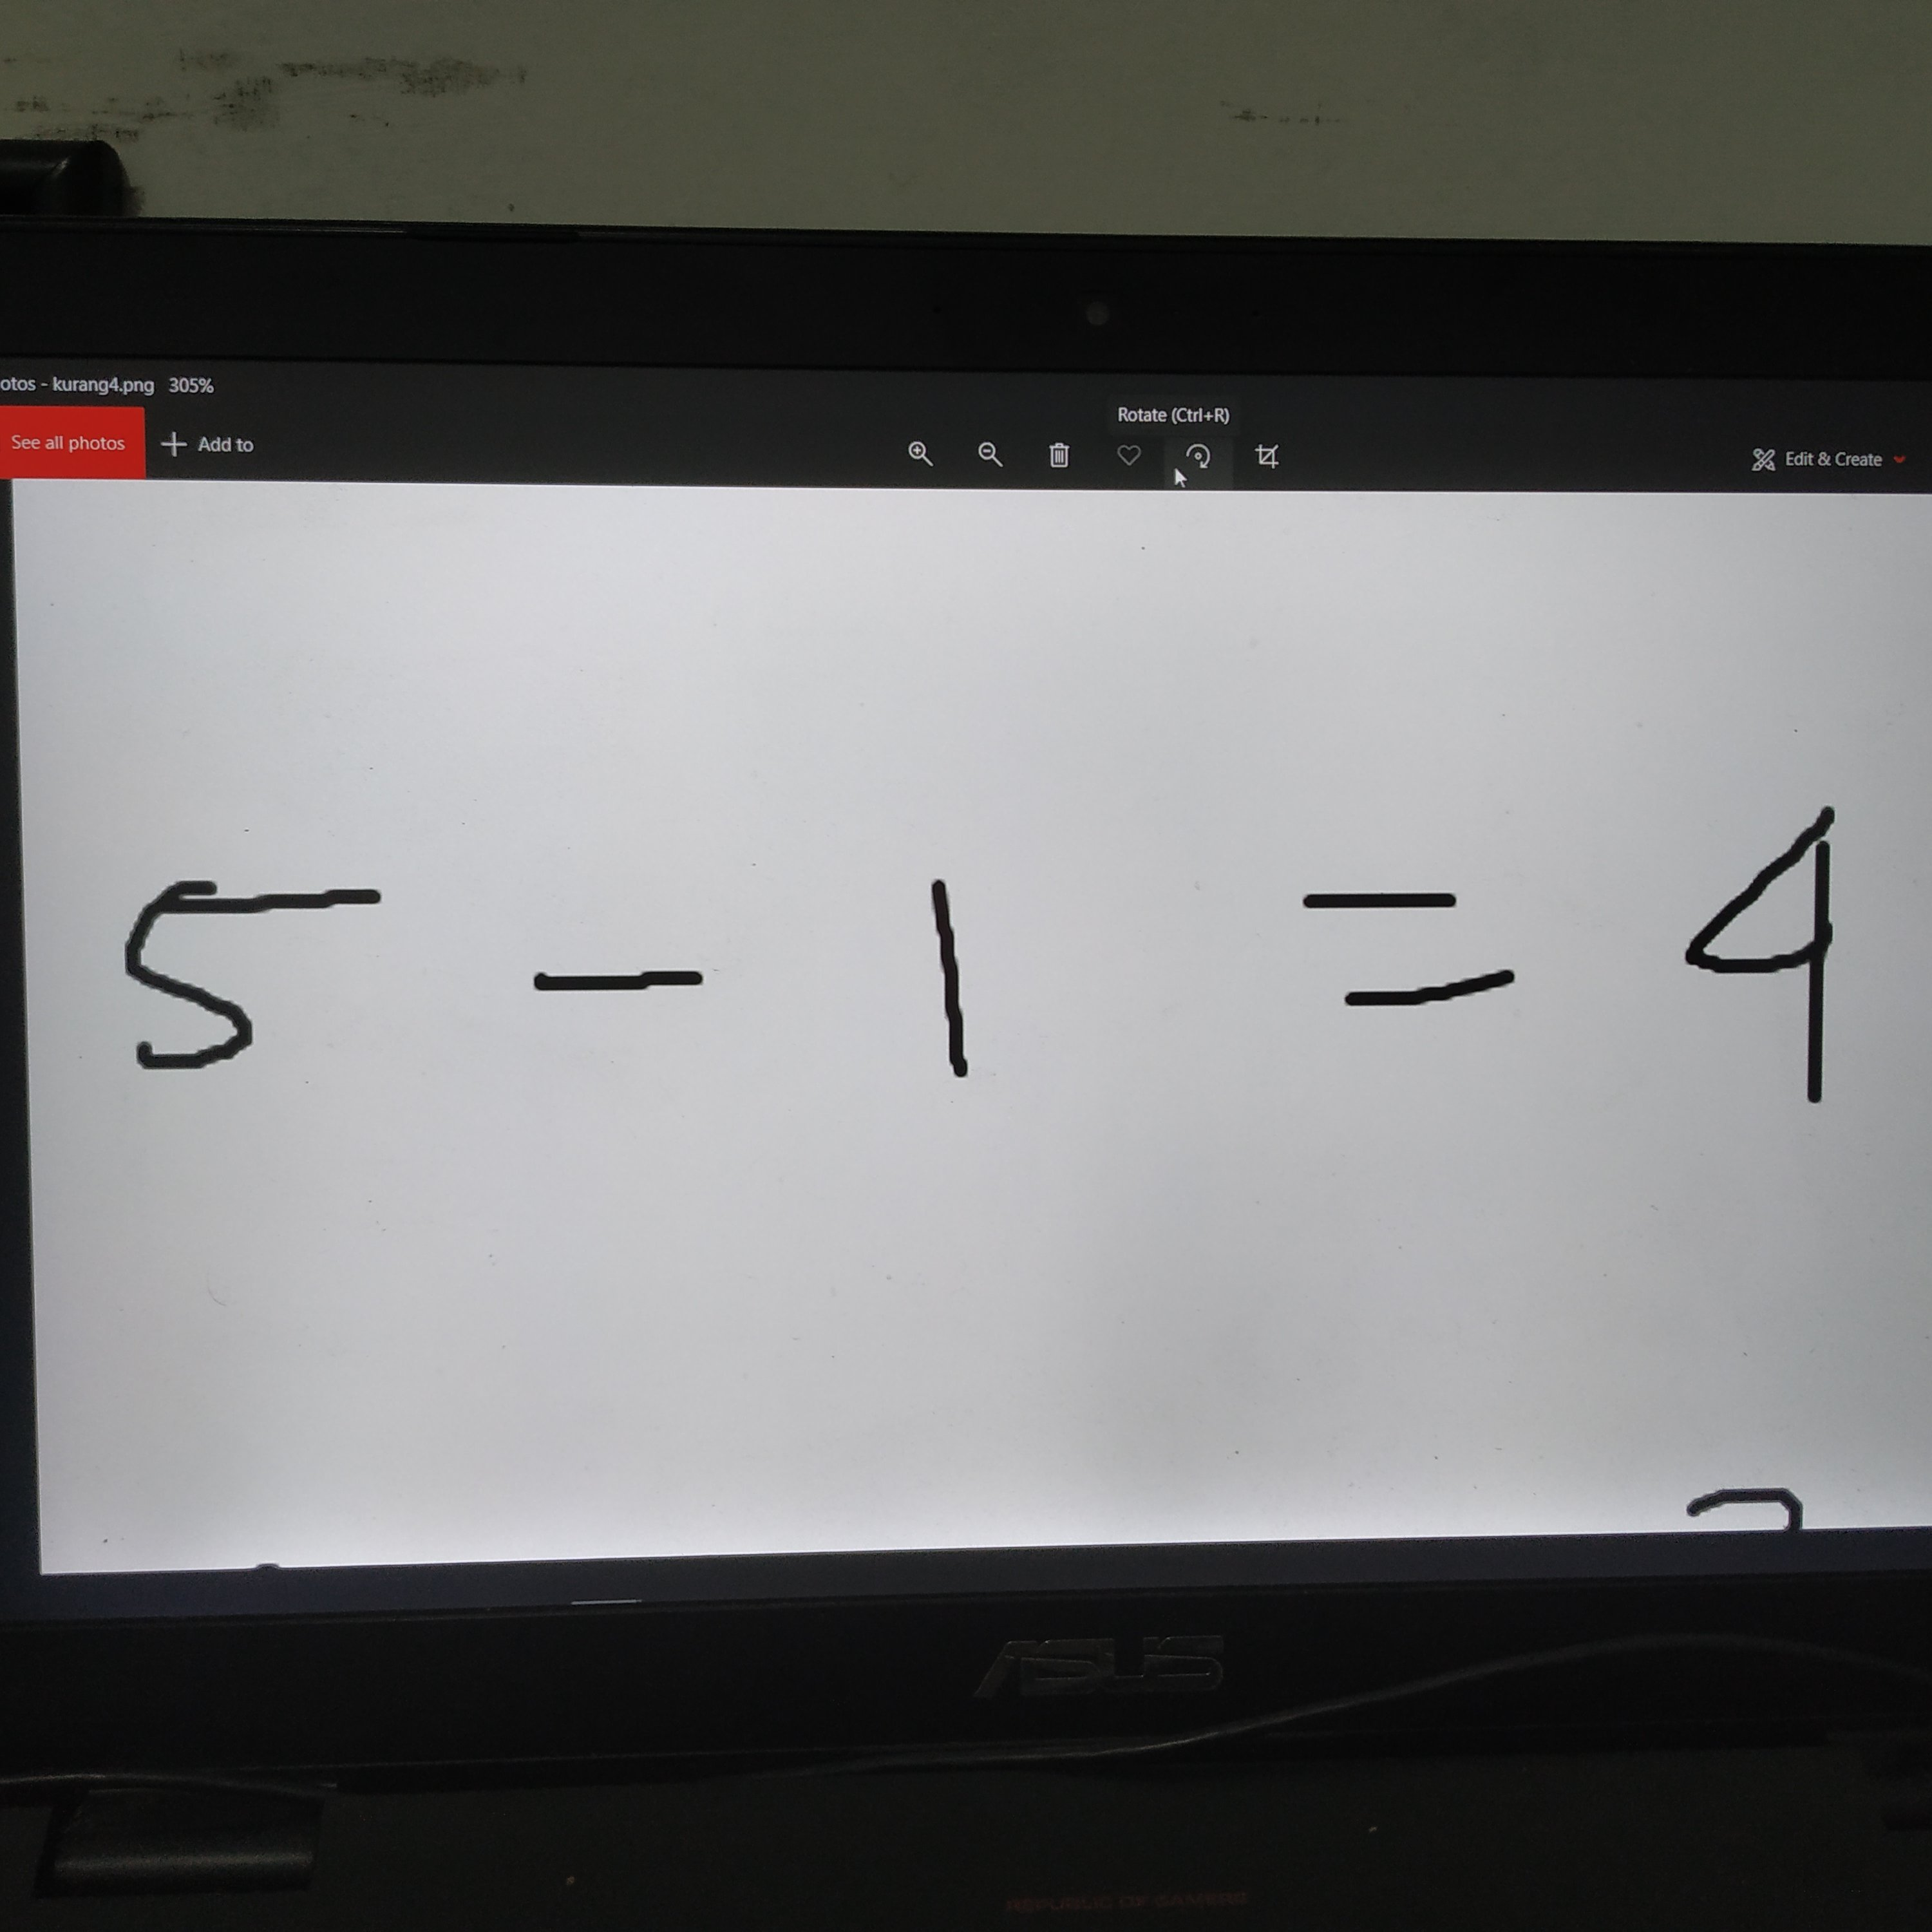equal: (1289, 870, 1550, 1022)
min: (501, 943, 744, 1020)
num1: (889, 862, 1023, 1111)
num4: (1656, 795, 1864, 1122)
num5: (92, 864, 408, 1084)
